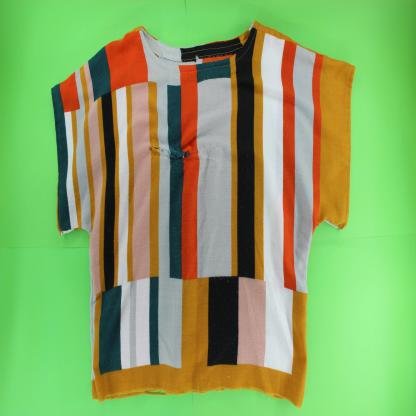hole: (146, 143, 194, 163)
